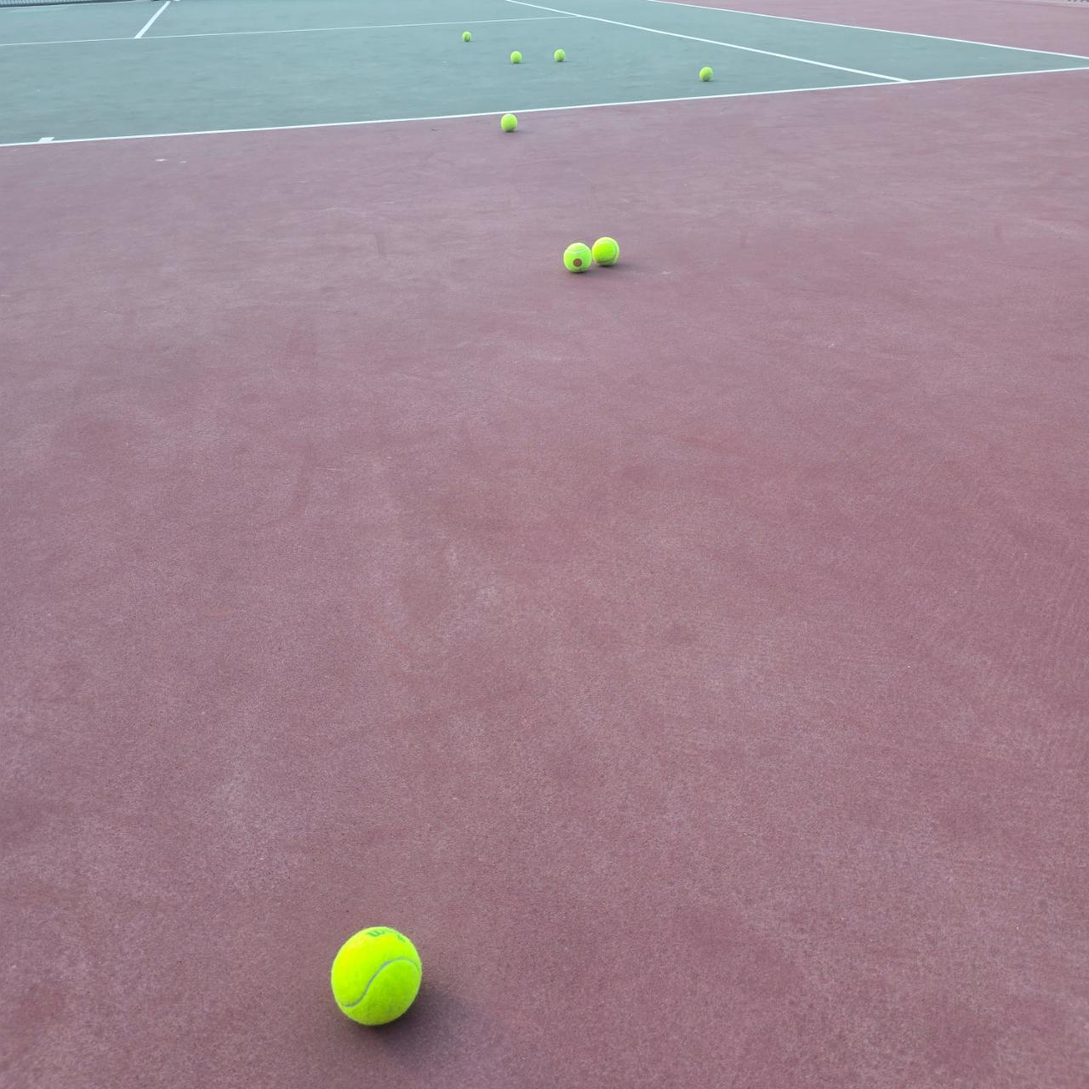tennis-ball: (328, 923, 423, 1027), (562, 240, 591, 272), (590, 234, 619, 265), (500, 113, 517, 131), (699, 66, 713, 81), (554, 49, 566, 62), (511, 51, 522, 64), (462, 31, 472, 42)
